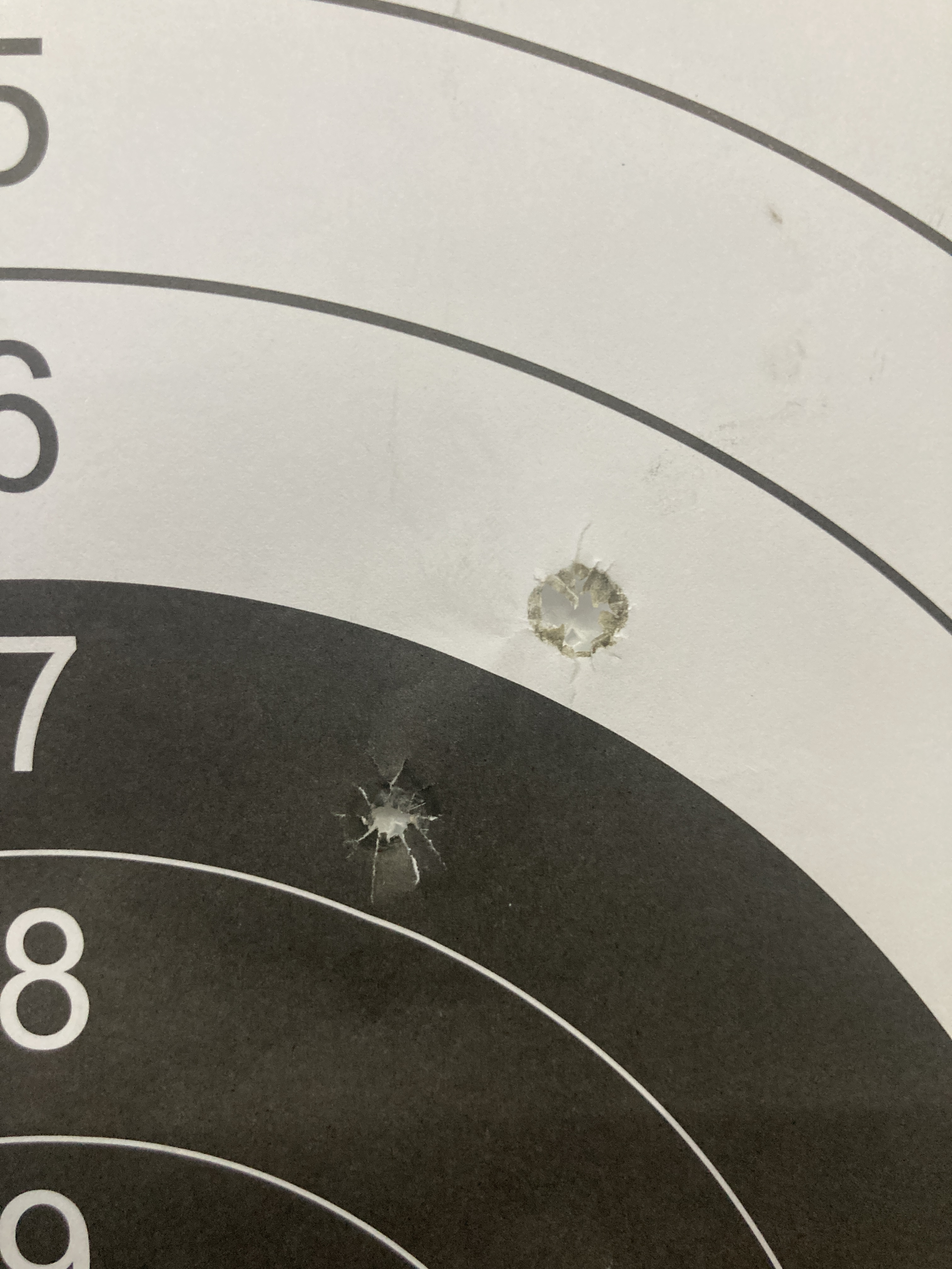hole: (497, 529, 661, 689), (309, 746, 469, 910)
